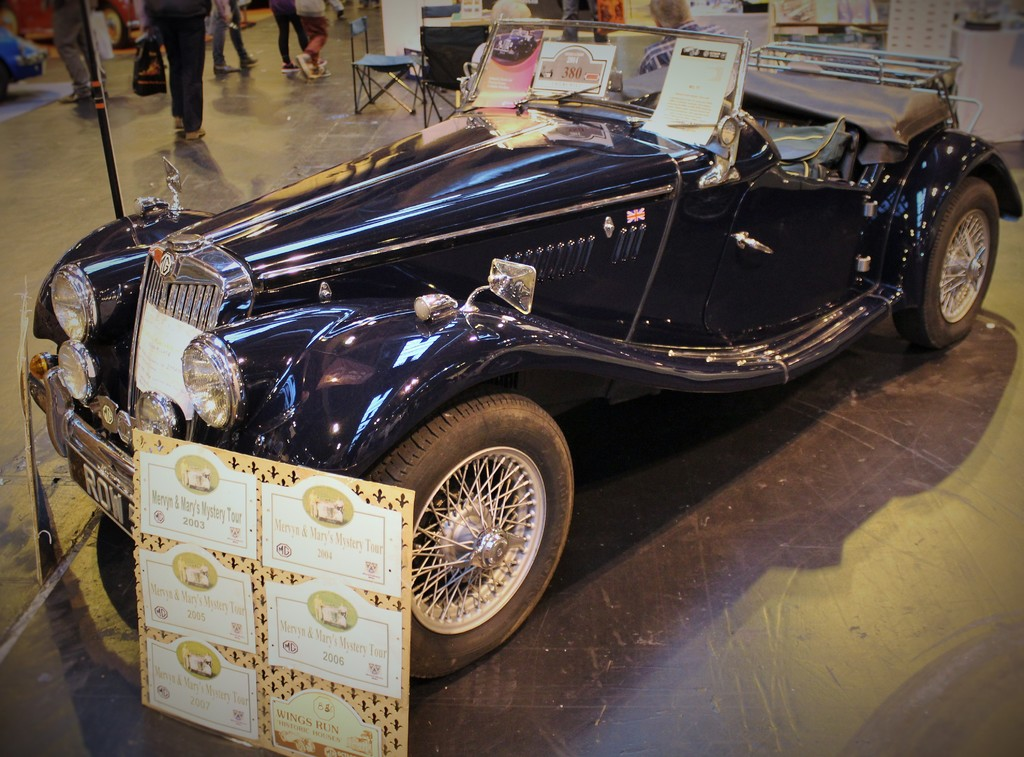Car: (28, 14, 1023, 686)
